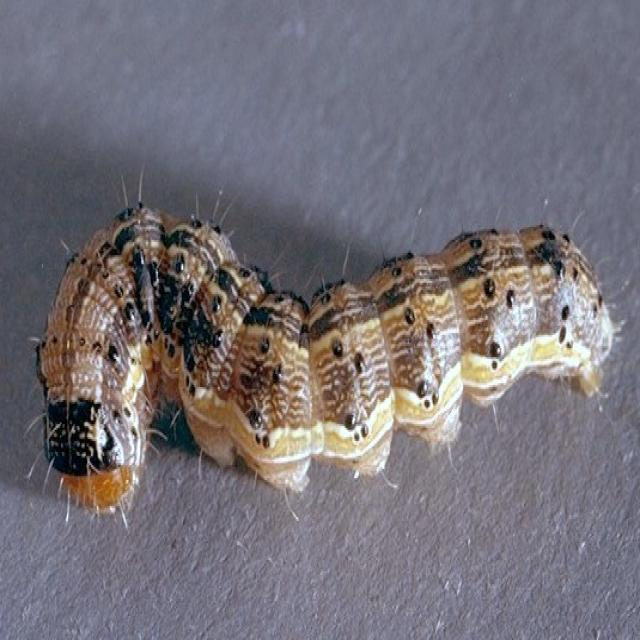Corn-earworm: (29, 182, 625, 532)
